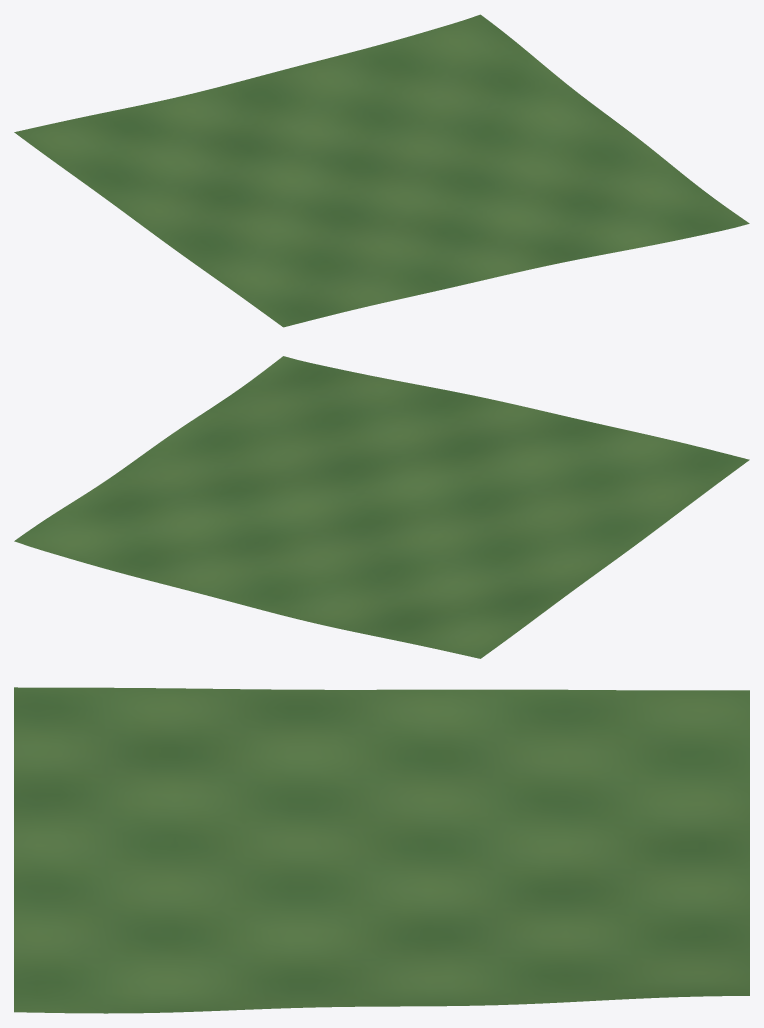
File: chunk_11_4.glb
3 renders of one model, top to bottom at view 1: azimuth 30°, elevation 25°; view 2: azimuth 150°, elevation 25°; view 3: azimuth 270°, elevation 25°, orthographic. The views are drawn at different scales.
Bounding box in the file's own units: 512 × 13.55 × 512.
